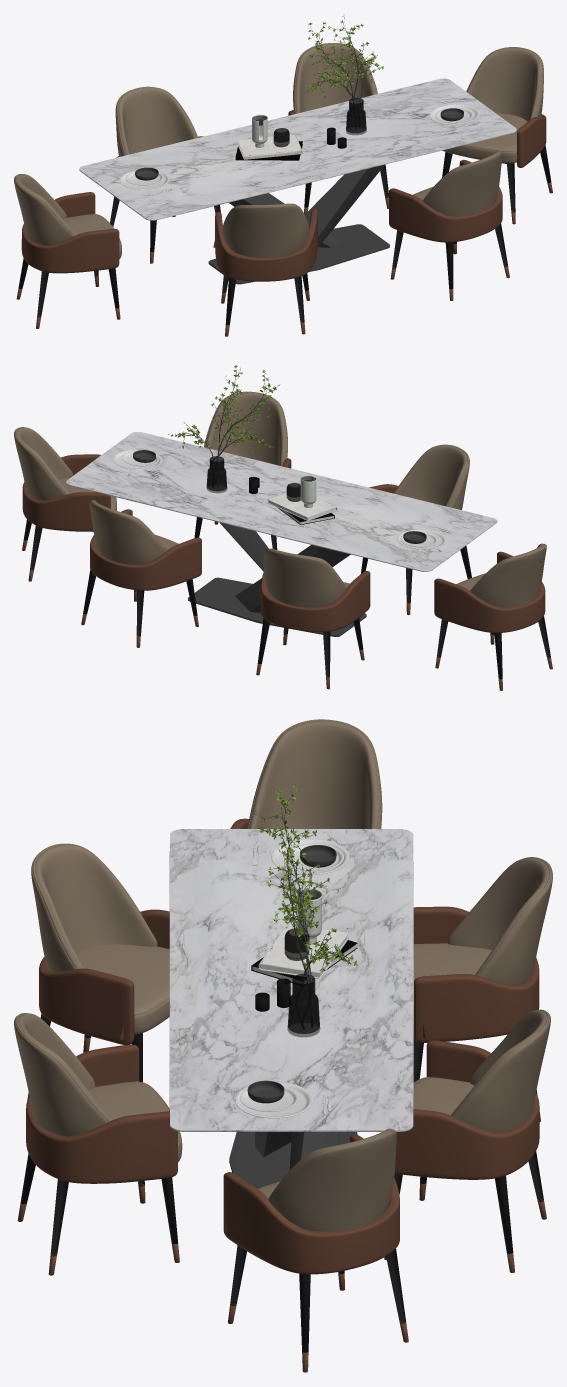
File: Dining Table.fbx
3 views of the same model, one above another, from view 1: azimuth 30°, elevation 25°; view 2: azimuth 150°, elevation 25°; view 3: azimuth 270°, elevation 25° (orthographic). The views are drawn at different scales.
Parts seen in each view (by area): view 1: A_Stratos table L2400 base_01; view 2: A_Stratos table L2400 base_01; view 3: A_Stratos table L2400 base_01.
Part boxes in pixels (x1,y1,x2,y2): A_Stratos table L2400 base_01: (14,14,552,336); A_Stratos table L2400 base_01: (14,365,552,690); A_Stratos table L2400 base_01: (14,719,552,1372).
Size of what is drawn, in the model's own units: 180 by 76 by 95.
Materials: 17 (7 with a texture image).
